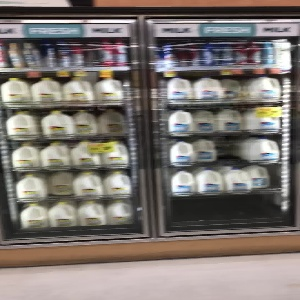void: (173, 196, 284, 218), (216, 132, 246, 165)
